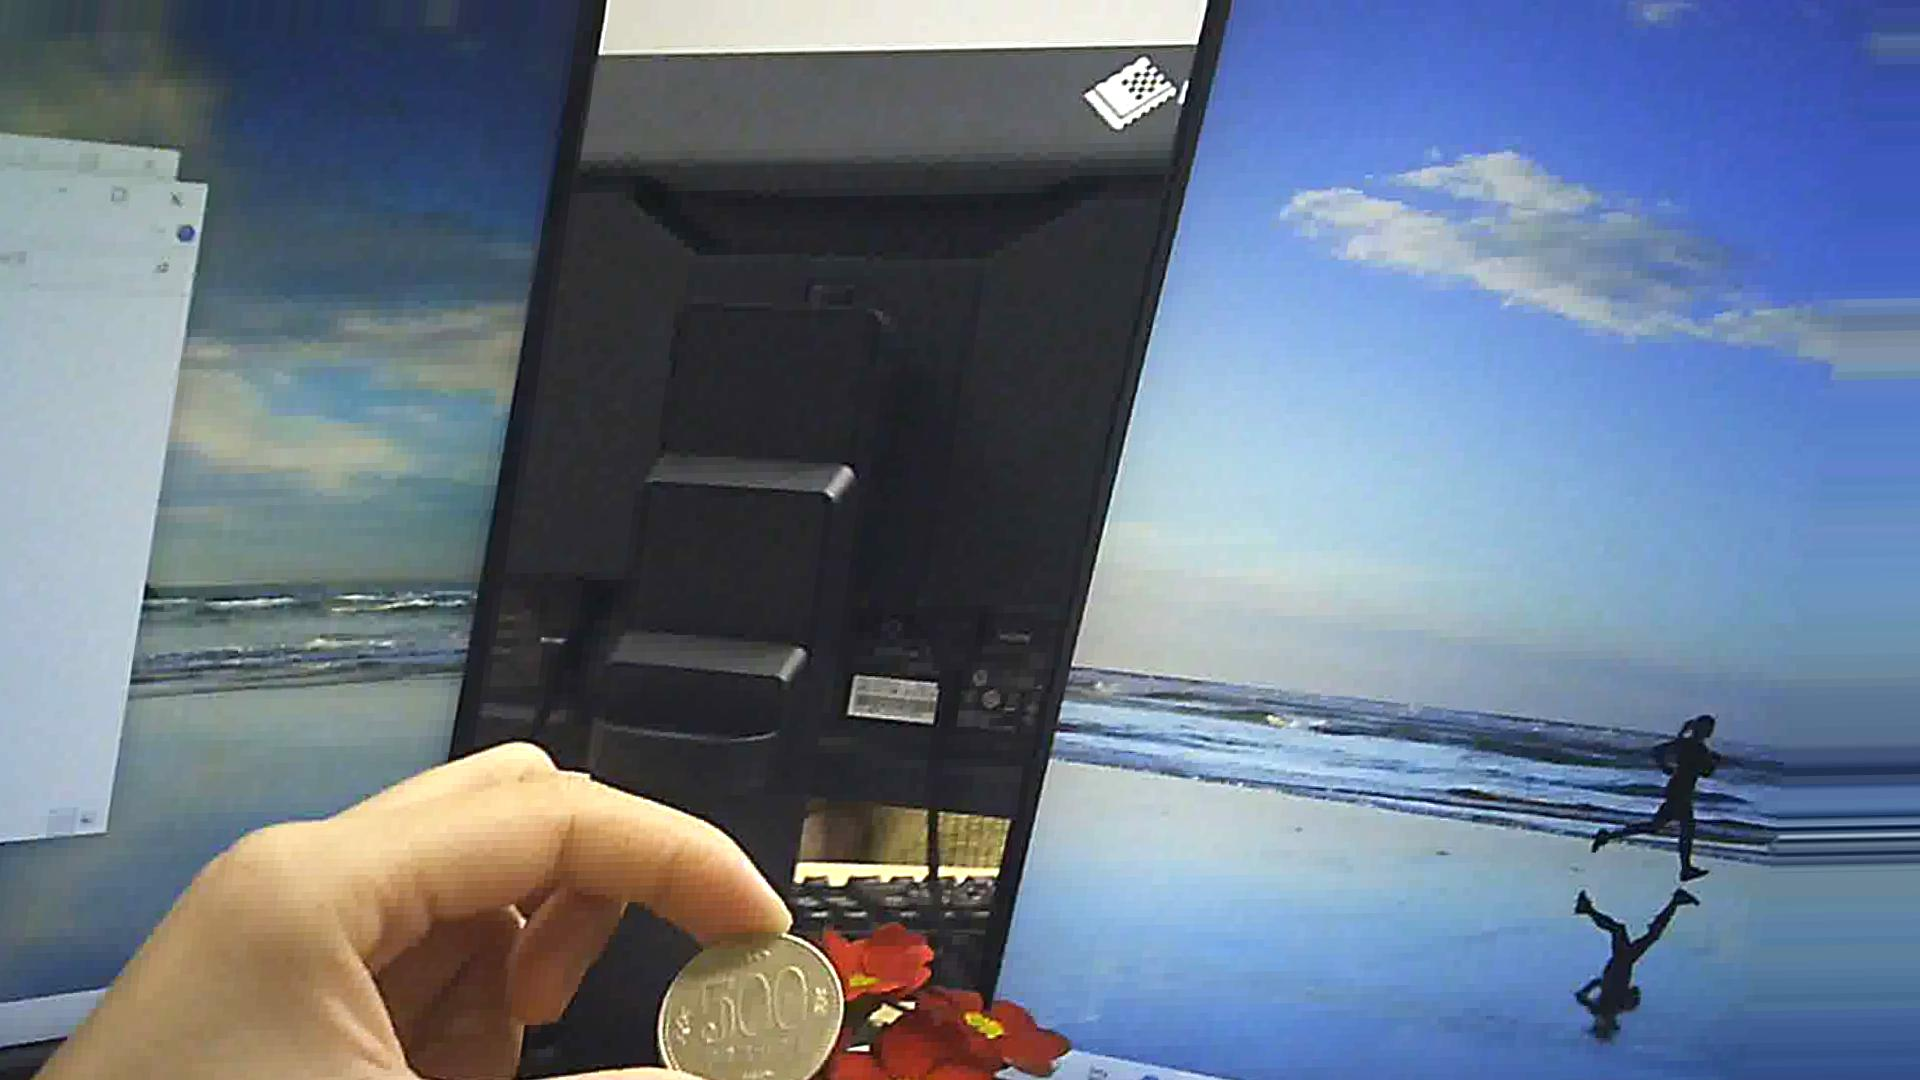500 Yen: (645, 924, 843, 1079)
